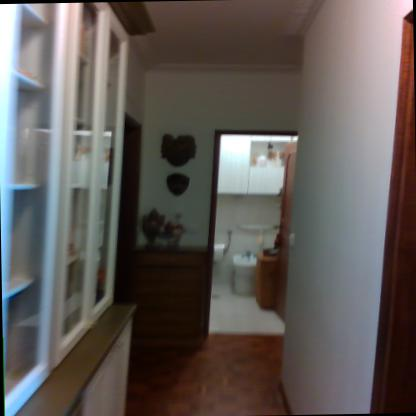open: (204, 124, 319, 342)
